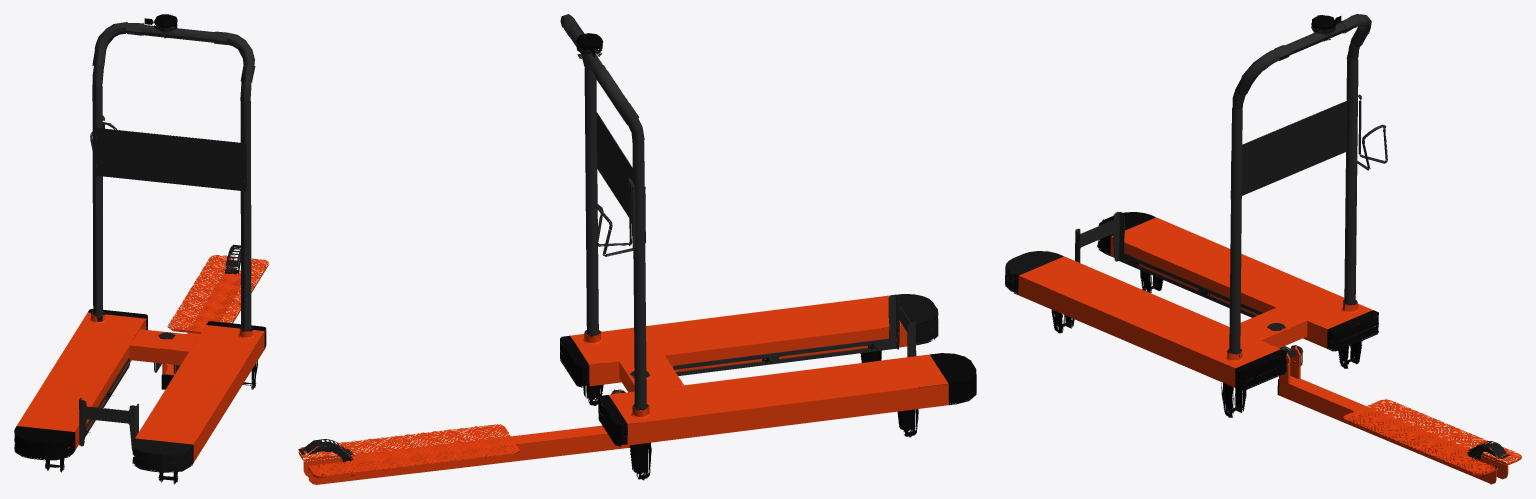
The model's file is SKUTRONewOrient.glb.
3 renders of one model, left to right at view 1: azimuth 30°, elevation 25°; view 2: azimuth 150°, elevation 25°; view 3: azimuth 270°, elevation 25°, orthographic. The views are drawn at different scales.
Parts seen in each view (by area): view 1: Skutro_2; view 2: Skutro_2; view 3: Skutro_2.
Part boxes in pixels (x1,y1,x2,y2): Skutro_2: (14, 14, 269, 484); Skutro_2: (298, 14, 976, 484); Skutro_2: (1005, 14, 1521, 484).
Bounding box in the file's own units: 1.43 × 1.18 × 1.45.
